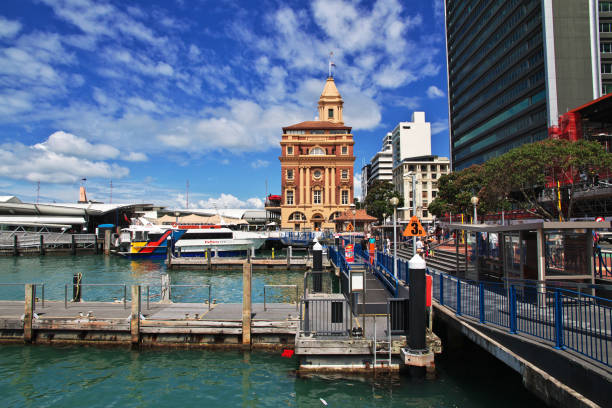ferry: (109, 217, 270, 259)
